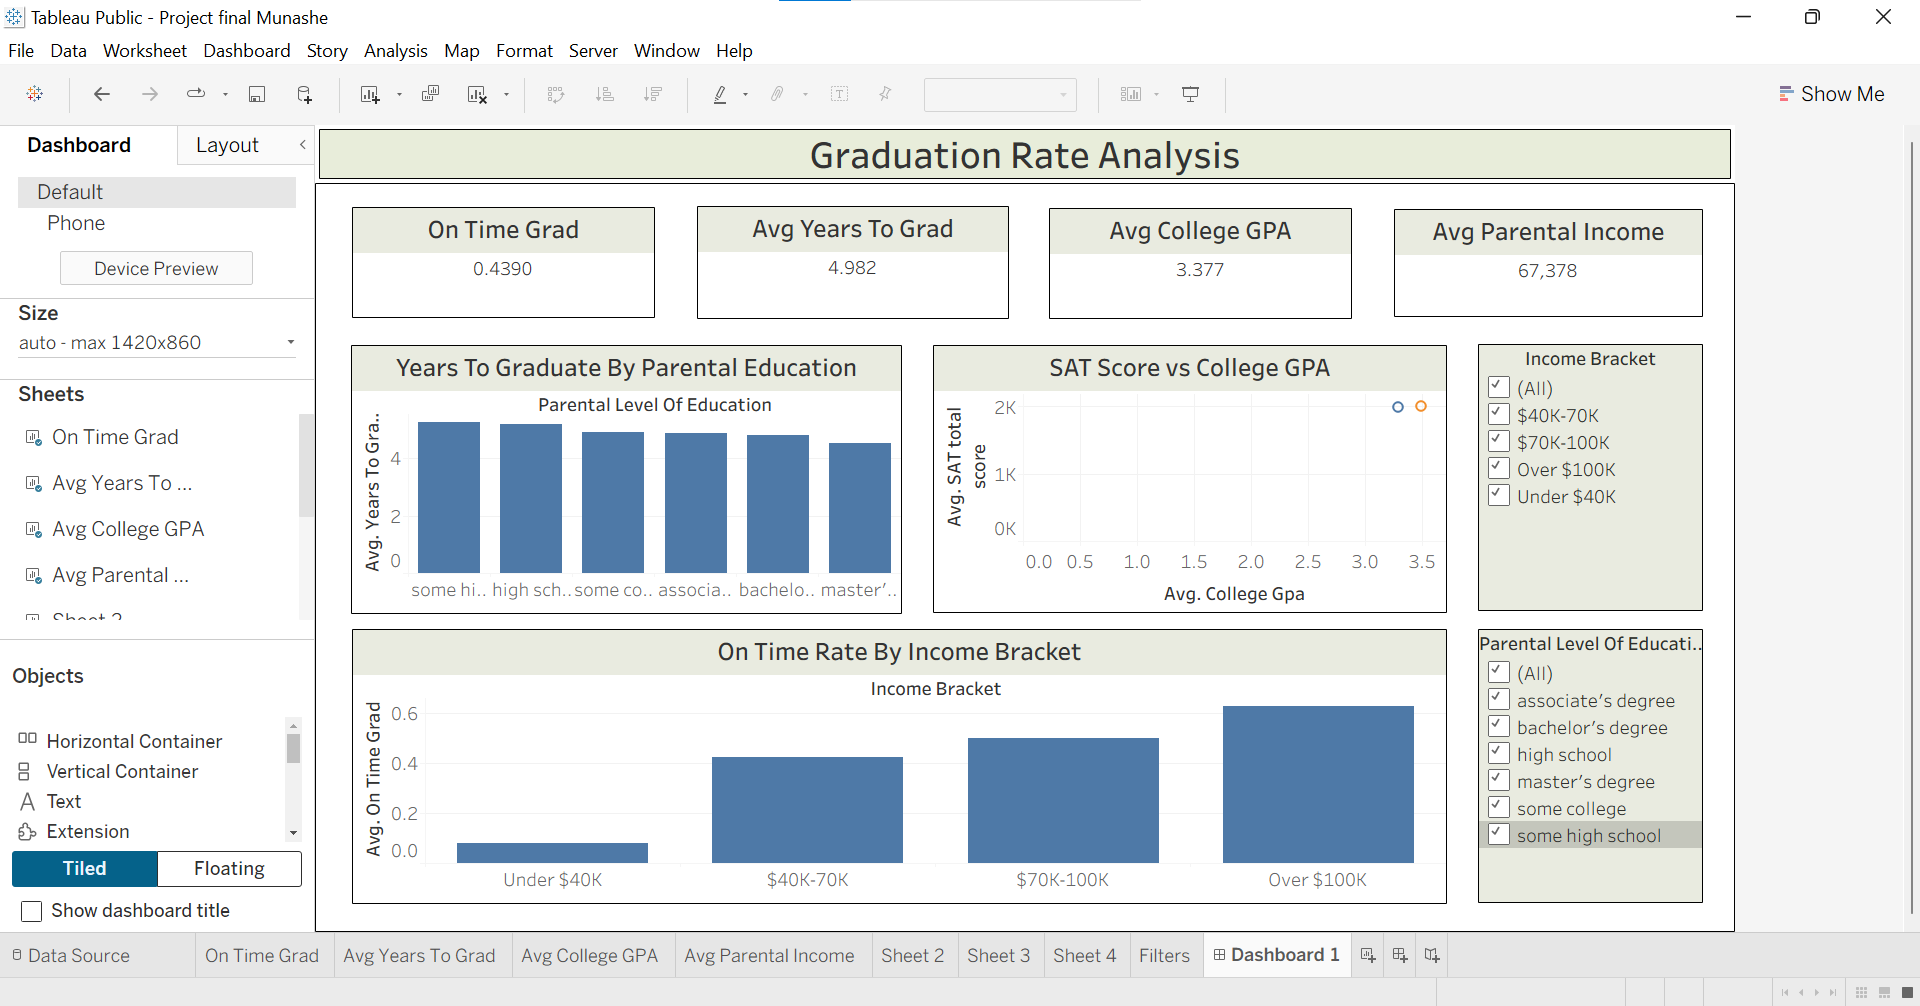

The dashboard page shown, as its layout file describes it:
{"tool":"tableau","page":{"name":"Dashboard 1","canvas":[1000,1000],"units":"permille","ordinal":0},"visuals":[{"type":"title","box":[0,0,1000,71.9]},{"type":"worksheet","title":"Avg Years To Grad","mark":"Automatic","box":[269,100.4,219.7,140]},{"type":"worksheet","title":"On Time Grad","mark":"Automatic","box":[26.1,101.6,213.4,137.6]},{"type":"worksheet","title":"Avg College GPA","mark":"Automatic","box":[516.9,102.9,213.4,137.6]},{"type":"worksheet","title":"Avg Parental Income","mark":"Automatic","box":[759.9,104.1,217.6,133.8]},{"type":"filter","title":"Avg College GPA","param":"[federated.0dvo54z0me0jja0znsbxy1v1j9w8].[none:income_bracket:nk]","box":[819,271.4,158.5,330.9]},{"type":"worksheet","title":"Sheet 2","mark":"Automatic","rows":["years to graduate"],"cols":["parental level of education"],"box":[25.4,272.6,388,333.3]},{"type":"worksheet","title":"Sheet 3","mark":"Automatic","rows":["SAT total score"],"cols":["college gpa"],"box":[435.2,272.6,362,332.1]},{"type":"worksheet","title":"Sheet 4","mark":"Automatic","rows":["on_time_grad"],"cols":["income_bracket"],"box":[26.1,624.5,771.1,340.8]},{"type":"filter","title":"Avg College GPA","param":"[federated.0dvo54z0me0jja0znsbxy1v1j9w8].[none:parental level of education:nk]","box":[819,624.5,158.5,339.5]}]}

Visuals, with their boxes on the dashboard's canvas, which has no fixed pixel size, in thousandths of its width and height (x1, y1, x2, y2). These are canvas units, not pixel positions in the 1920x1006 screenshot, which may show the page scaled, cropped or inside an application window:
title: (x1=0, y1=0, x2=1000, y2=72)
"Avg Years To Grad" worksheet: (x1=269, y1=100, x2=489, y2=240)
"On Time Grad" worksheet: (x1=26, y1=102, x2=240, y2=239)
"Avg College GPA" worksheet: (x1=517, y1=103, x2=730, y2=240)
"Avg Parental Income" worksheet: (x1=760, y1=104, x2=978, y2=238)
"Avg College GPA" filter: (x1=819, y1=271, x2=978, y2=602)
"Sheet 2" worksheet: (x1=25, y1=273, x2=413, y2=606)
"Sheet 3" worksheet: (x1=435, y1=273, x2=797, y2=605)
"Sheet 4" worksheet: (x1=26, y1=624, x2=797, y2=965)
"Avg College GPA" filter: (x1=819, y1=624, x2=978, y2=964)
